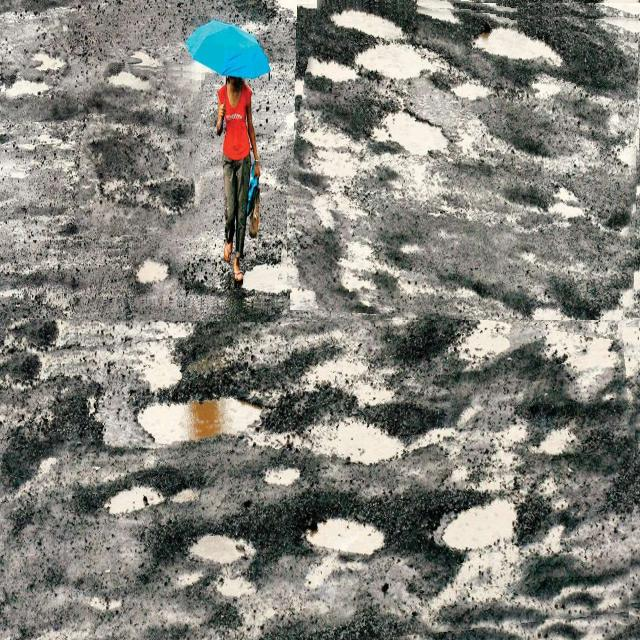Pothole: (0, 299, 640, 640), (287, 0, 640, 320), (79, 64, 201, 235), (0, 21, 74, 122), (130, 249, 178, 293)
